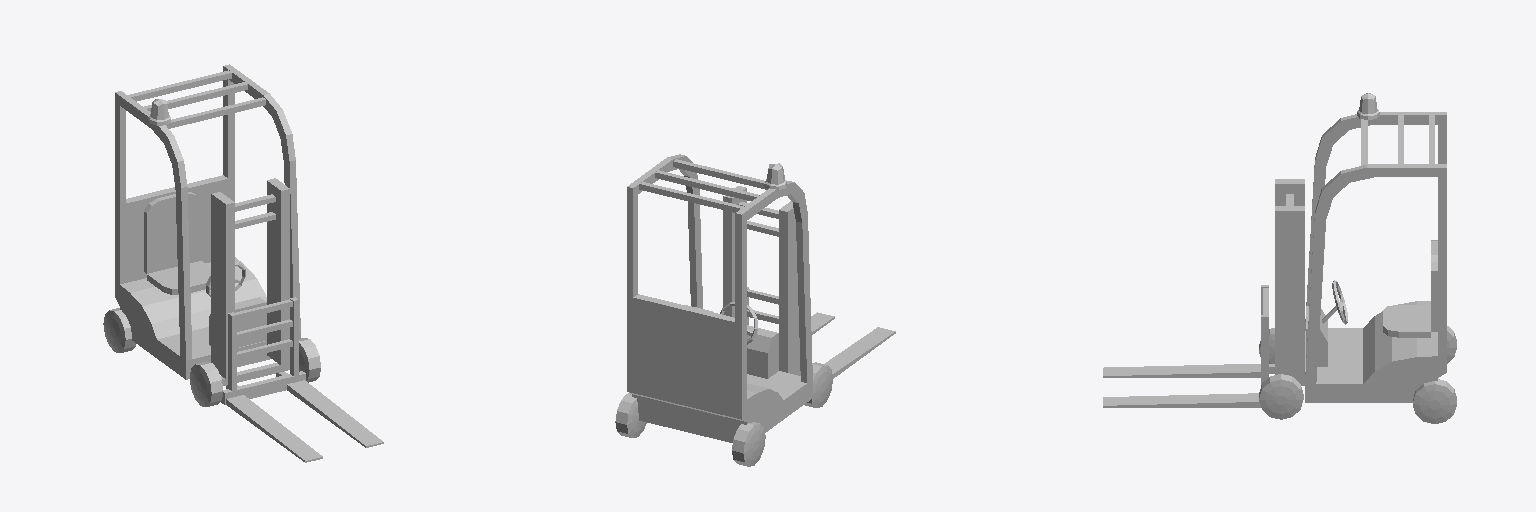
File: Forklifts.obj
3 renders of one model, left to right at view 1: azimuth 30°, elevation 25°; view 2: azimuth 150°, elevation 25°; view 3: azimuth 270°, elevation 25°, orthographic.
Parts seen in each view (by area): view 1: Forklifts; view 2: Forklifts; view 3: Forklifts.
Part boxes in pixels (left/top/right/bottom): Forklifts: left=103, top=64, right=383, bottom=462; Forklifts: left=615, top=154, right=895, bottom=466; Forklifts: left=1103, top=93, right=1456, bottom=423.
Bounding box in the file's own units: 38.77 × 77.33 × 90.51.